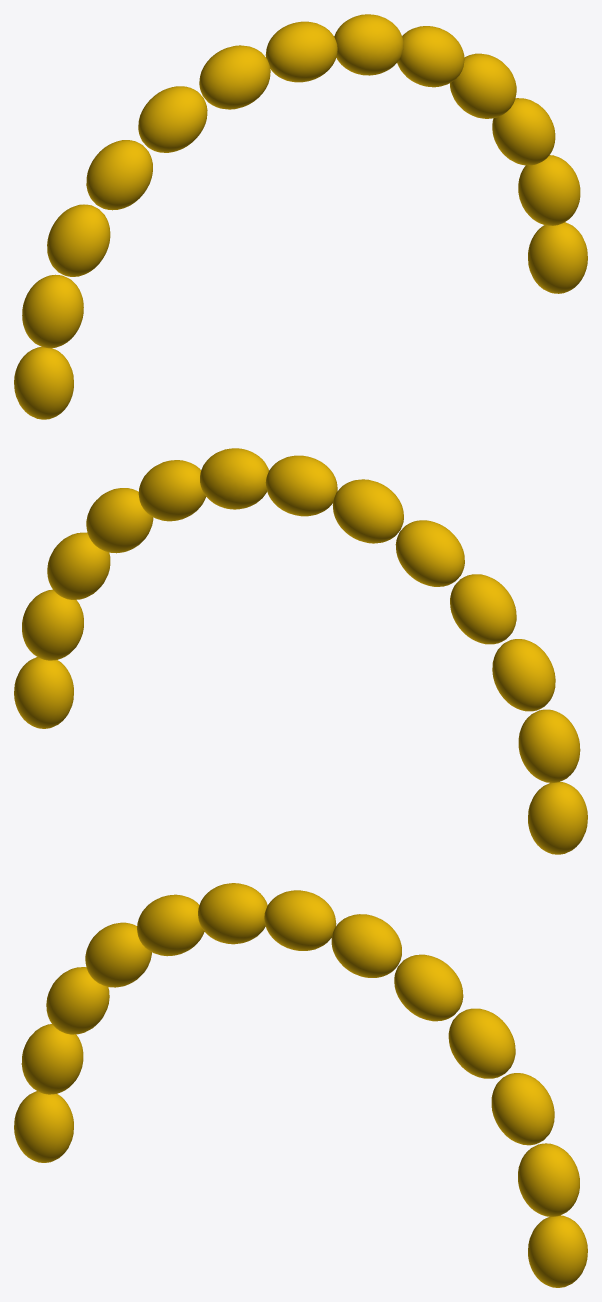
The model's file is HalfRing.fbx.
The picture shows the model from 3 angles, top to bottom: view 1: azimuth 30°, elevation 25°; view 2: azimuth 150°, elevation 25°; view 3: azimuth 330°, elevation 25°; orthographic projection.
Parts seen in each view (by area): view 1: Sphere.019, Sphere.017, Sphere.015, Sphere.021, Sphere.023, Sphere.013, Sphere, Sphere.012, Sphere.010, Sphere.002, Sphere.006, Sphere.004 (+1 smaller); view 2: Sphere.019, Sphere.015, Sphere.017, Sphere.021, Sphere.023, Sphere.013, Sphere, Sphere.012, Sphere.010, Sphere.002, Sphere.006, Sphere.004 (+1 smaller); view 3: Sphere.006, Sphere.010, Sphere.008, Sphere.004, Sphere.002, Sphere.012, Sphere, Sphere.013, Sphere.023, Sphere.015, Sphere.019, Sphere.021 (+1 smaller).
Boxes of the visible parts, x1,y1,x2,y2 form: Sphere.019: (86,140,152,210); Sphere.017: (47,204,110,276); Sphere.015: (22,274,83,348); Sphere.021: (138,86,207,152); Sphere.023: (199,45,270,109); Sphere.013: (14,347,73,419); Sphere: (265,21,337,82); Sphere.012: (528,222,587,293); Sphere.010: (518,155,580,225); Sphere.002: (334,14,403,75); Sphere.006: (450,53,516,118); Sphere.004: (397,26,464,87); Sphere.019: (450,574,516,644); Sphere.015: (518,709,580,782); Sphere.017: (492,639,555,711); Sphere.021: (395,520,464,586); Sphere.023: (332,479,403,543); Sphere.013: (528,782,587,854); Sphere: (265,455,337,516); Sphere.012: (14,657,73,728); Sphere.010: (22,589,83,660); Sphere.002: (200,448,268,509); Sphere.006: (86,488,153,553); Sphere.004: (138,460,206,521); Sphere.006: (448,1008,515,1078); Sphere.010: (518,1143,579,1216); Sphere.008: (491,1073,554,1145); Sphere.004: (394,954,463,1021); Sphere.002: (331,914,401,977); Sphere.012: (528,1215,587,1287); Sphere: (264,890,336,950); Sphere.013: (14,1091,73,1162); Sphere.023: (198,883,267,944); Sphere.015: (21,1024,83,1094); Sphere.019: (85,922,151,987); Sphere.021: (137,894,204,956).
Bounding box in the file's own units: 434 × 242 × 40.98.
